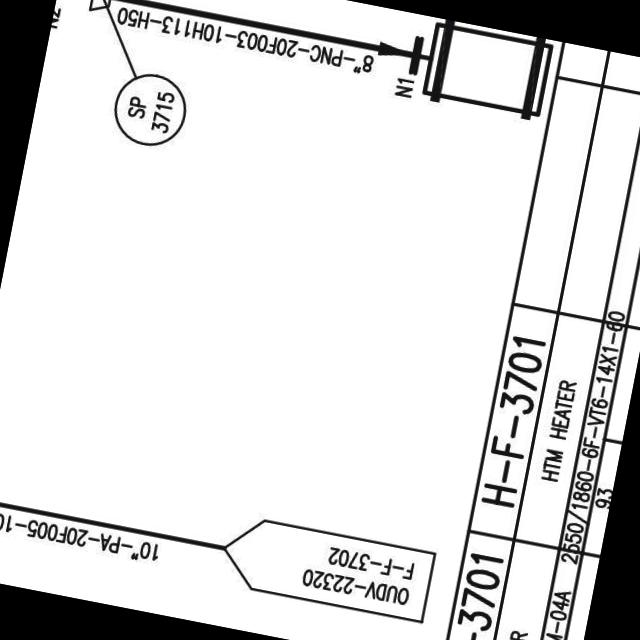D2: (419, 17, 555, 127)
SP: (82, 0, 120, 17)
